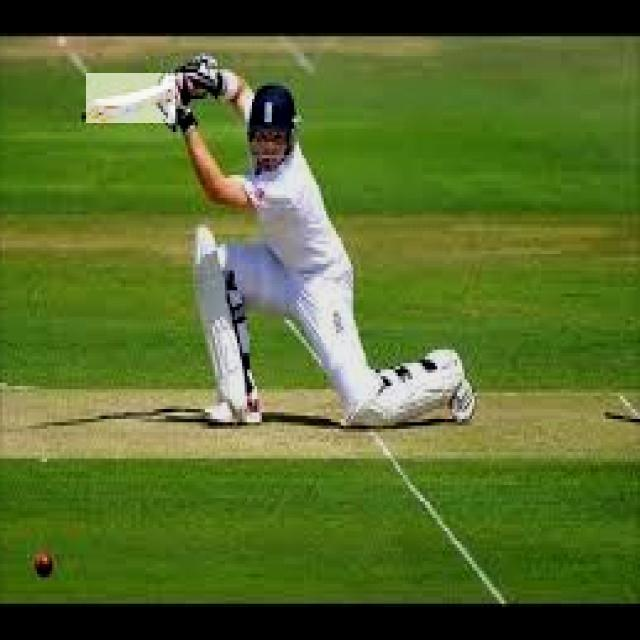bat: (85, 73, 175, 122)
toe: (80, 103, 108, 123)
